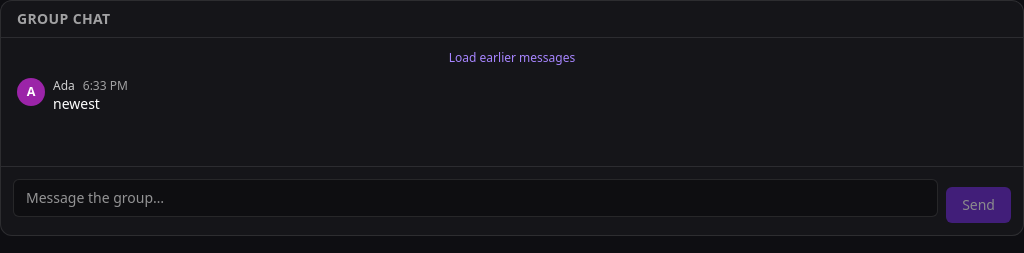
Test: GroupChat › loads earlier messages
Click the button "Load earlier messages" at (512,58), box [449, 50, 575, 66]
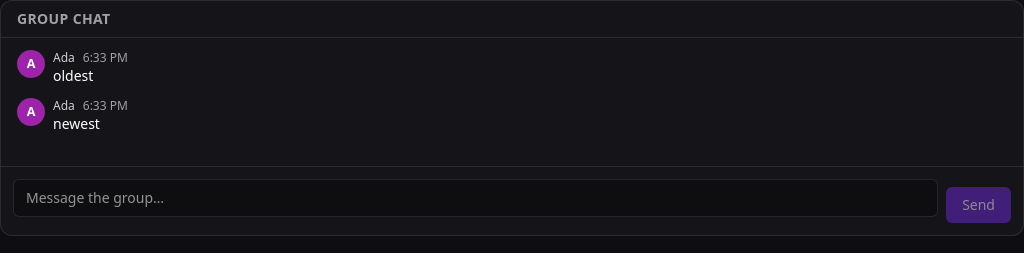
expect the text "newest" is shown: met, box [53, 114, 100, 133]
expect the text "oldest" is shown: met, box [53, 66, 93, 85]
